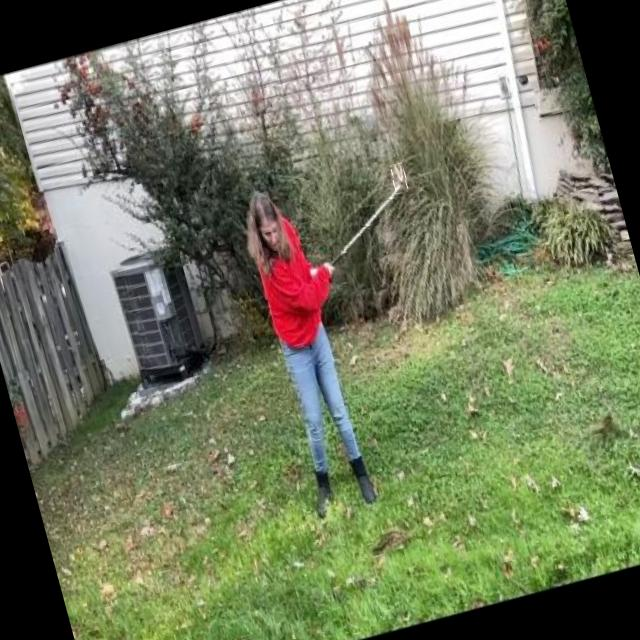club head: (388, 161, 409, 194)
